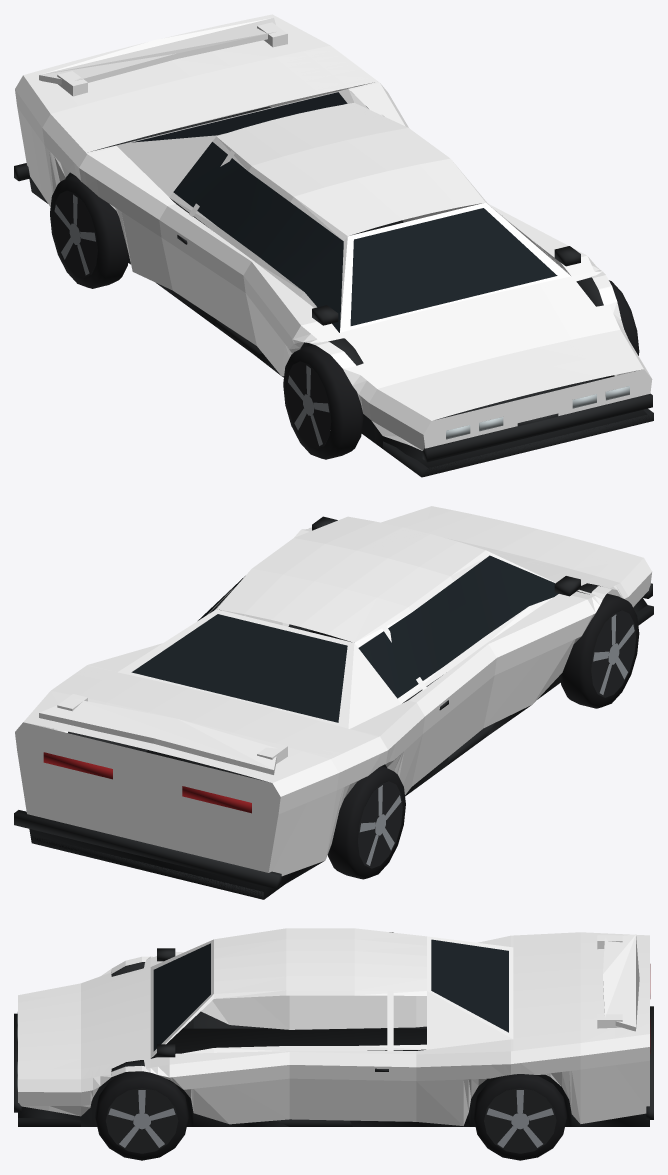
File: whitlock_lamina.glb
3 views of the same model, one above another, from view 1: azimuth 30°, elevation 25°; view 2: azimuth 150°, elevation 25°; view 3: azimuth 270°, elevation 25° (orthographic). The views are drawn at different scales.
Visible parts, largest first — view 1: Body_Paint, Body_Details, Mount_FrontLeft_Wheel_Details, Mount_RearLeft_Wheel_Details, Mount_FrontRight_Wheel_Details; view 2: Body_Paint, Body_Details, Mount_RearLeft_Wheel_Details, Mount_FrontLeft_Wheel_Details; view 3: Body_Paint, Body_Details, Mount_FrontRight_Wheel_Details, Mount_RearRight_Wheel_Details.
Boxes of the visible parts, x1,y1,x2,y2 form: Body_Paint: [15, 14, 652, 450]; Body_Details: [14, 92, 653, 477]; Mount_FrontLeft_Wheel_Details: [283, 345, 363, 459]; Mount_RearLeft_Wheel_Details: [50, 175, 128, 288]; Mount_FrontRight_Wheel_Details: [609, 280, 639, 355]; Body_Paint: [15, 506, 651, 876]; Body_Details: [14, 516, 653, 899]; Mount_RearLeft_Wheel_Details: [327, 766, 405, 879]; Mount_FrontLeft_Wheel_Details: [560, 593, 639, 708]; Body_Paint: [18, 928, 649, 1125]; Body_Details: [14, 939, 653, 1126]; Mount_FrontRight_Wheel_Details: [95, 1071, 188, 1160]; Mount_RearRight_Wheel_Details: [473, 1074, 566, 1160].
Bounding box in the file's own units: 2.05 × 1.14 × 4.53.
Materials: 2 (1 with a texture image).
